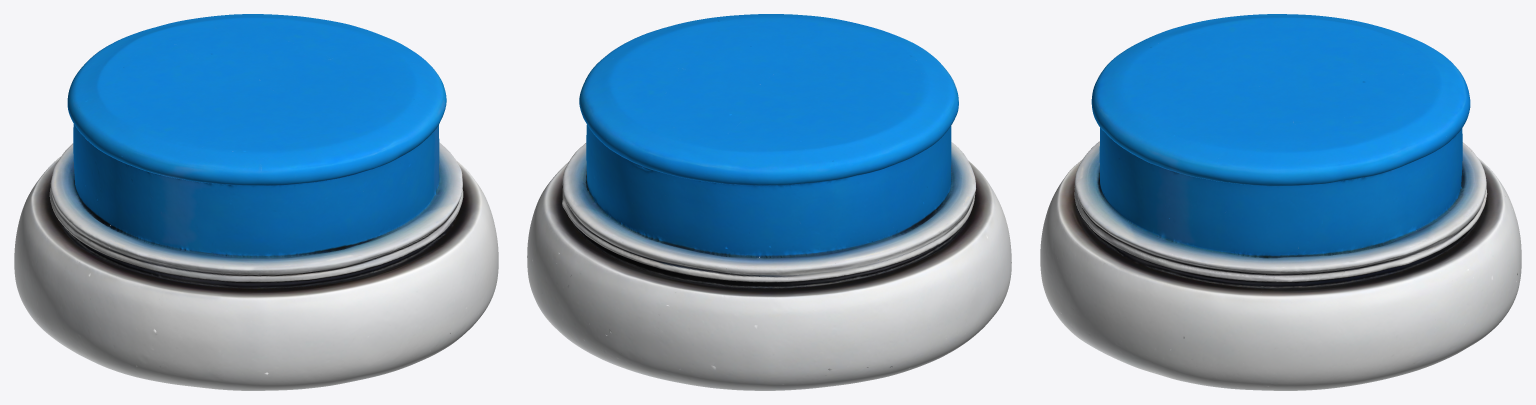
File: Meshy_AI_Blue_Sphere_on_Silver_0409065905_texture.glb
3 renders of one model, left to right at view 1: azimuth 30°, elevation 25°; view 2: azimuth 150°, elevation 25°; view 3: azimuth 270°, elevation 25°, orthographic.
Size of the model in its own units: 2 by 1.06 by 2.
Materials: 1 (1 with a texture image).
